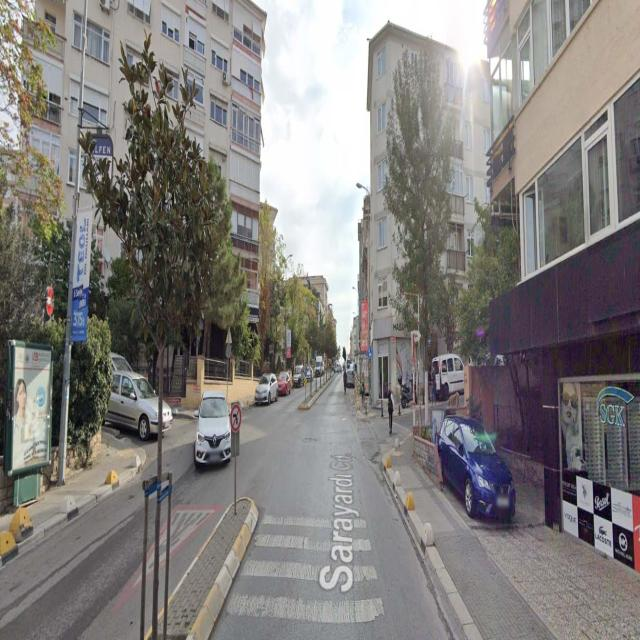soladonulmez: (230, 401, 241, 433)
